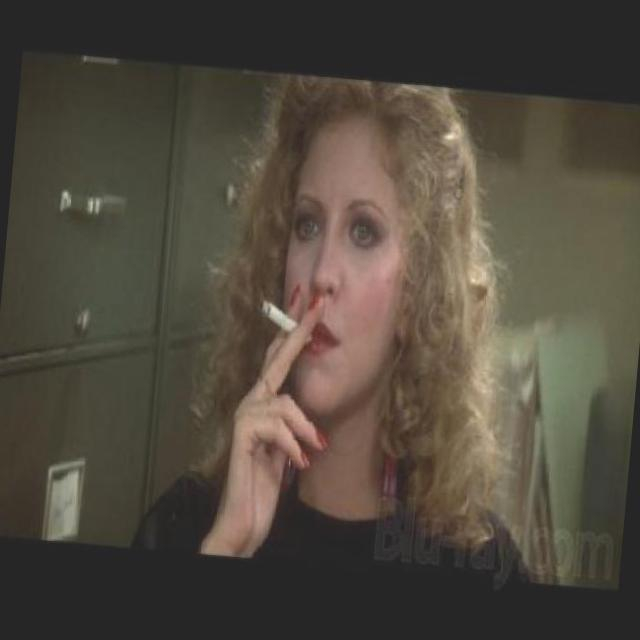cigarette: (252, 292, 306, 338)
